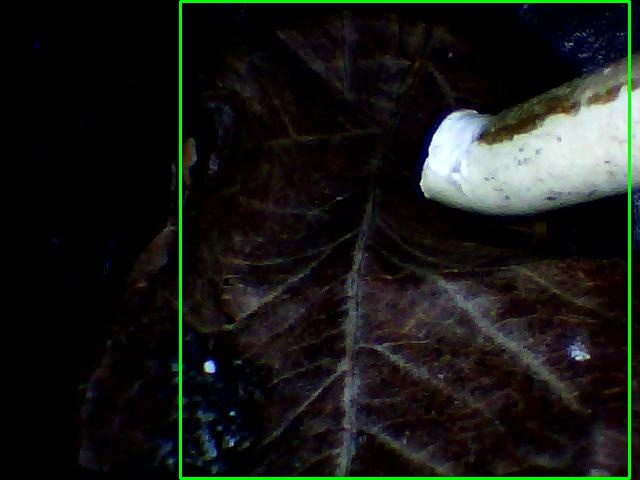feuille: (180, 1, 629, 478)
